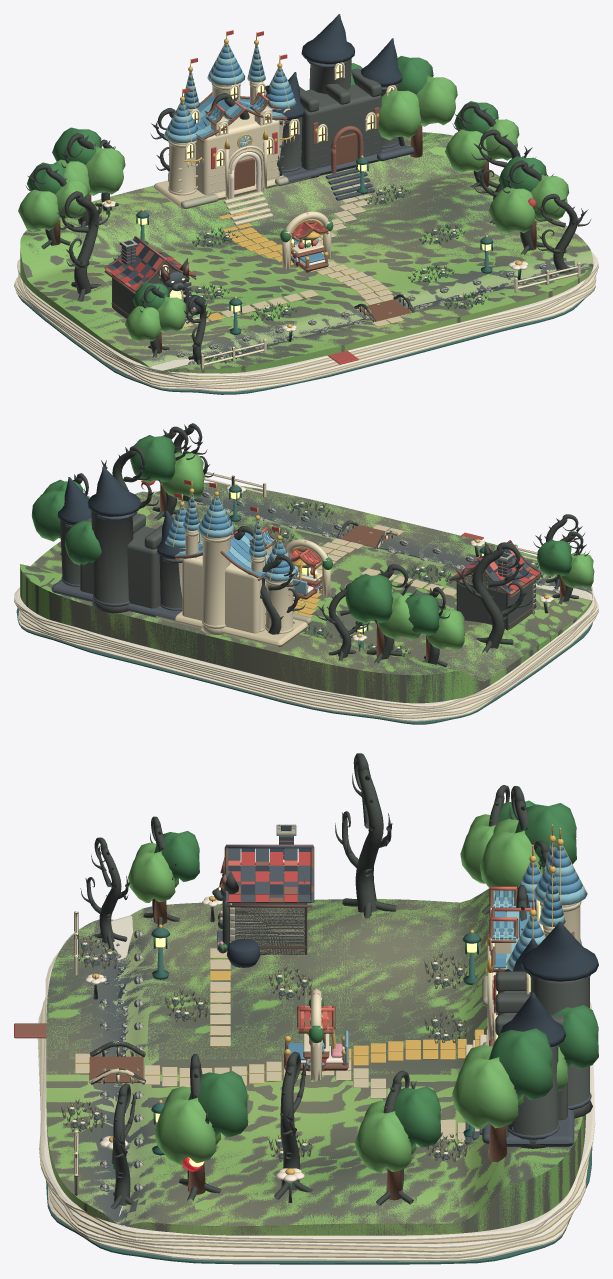
File: fairytale.glb
3 views of the same model, one above another, from view 1: azimuth 30°, elevation 25°; view 2: azimuth 150°, elevation 25°; view 3: azimuth 270°, elevation 25° (orthographic). The views are drawn at different scales.
Visible parts, largest first — view 1: fairytale-front-stage-0, fairytale-back-stage-0, fairytale-front-stage-100, fairytale-back-stage-100, Sphere.028, Cone.009, fairytale-back-stage-40, Sphere.026, Cone.013, Cone.008, Sphere.029, Cone.010 (+16 smaller); view 2: fairytale-back-stage-0, fairytale-front-stage-0, fairytale-front-stage-100, fairytale-back-stage-100, Cone.013, fairytale-back-stage-40, Cone.009, Cone.010, Cone.008, Sphere.029, fairytale-front-stage-40, Sphere.028 (+17 smaller); view 3: fairytale-back-stage-0, fairytale-front-stage-0, fairytale-back-stage-100, fairytale-back-stage-40, fairytale-front-stage-100, Sphere.028, Cone.009, Sphere.026, fairytale-front-stage-40, Cone.013, fairytale-back-stage-20, Sphere.029 (+14 smaller).
Part boxes in pixels (x1,y1,x2,y2): fairytale-front-stage-0: (14,132,598,394); fairytale-back-stage-0: (14,132,597,392); fairytale-front-stage-100: (154,30,310,208); fairytale-back-stage-100: (265,14,414,182); Sphere.028: (378,56,457,157); Cone.009: (488,156,569,250); fairytale-back-stage-40: (105,236,204,320); Sphere.026: (445,101,519,186); Cone.013: (52,127,125,225); Cone.008: (18,162,89,244); Sphere.029: (125,282,186,353); Cone.010: (57,191,109,301); fairytale-back-stage-0: (14,482,598,723); fairytale-front-stage-0: (14,483,598,724); fairytale-front-stage-100: (155,480,311,647); fairytale-back-stage-100: (51,466,185,619); Cone.013: (345,574,420,659); fairytale-back-stage-40: (449,540,540,630); Cone.009: (130,435,204,516); Cone.010: (453,542,533,652); Cone.008: (405,593,465,660); Sphere.029: (537,539,594,601); fairytale-front-stage-40: (449,540,541,626); Sphere.028: (31,489,65,541); fairytale-back-stage-0: (15,888,592,1263); fairytale-front-stage-0: (14,888,595,1264); fairytale-back-stage-100: (482,921,598,1148); fairytale-back-stage-40: (212,824,314,967); fairytale-front-stage-100: (482,824,587,1045); Sphere.028: (452,1028,552,1162); Cone.009: (154,1071,247,1194); Sphere.026: (355,1086,441,1200); fairytale-front-stage-40: (217,824,314,954); Cone.013: (480,803,576,897); fairytale-back-stage-20: (61,935,468,1161); Sphere.029: (128,831,199,924).
Bounding box in the file's own units: 30.2 × 11.89 × 22.55.
